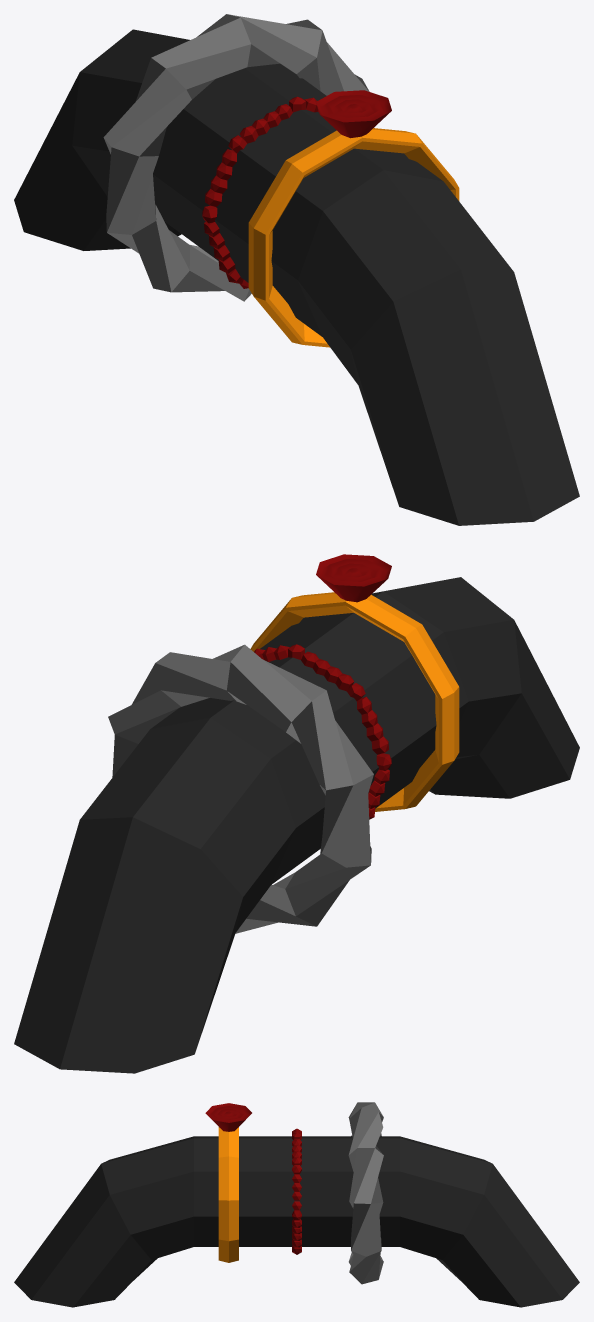
The model's file is Wristbands 1.FBX.
3 renders of one model, top to bottom at view 1: azimuth 30°, elevation 25°; view 2: azimuth 150°, elevation 25°; view 3: azimuth 270°, elevation 25°, orthographic. The views are drawn at different scales.
Parts seen in each view (by area): view 1: Object001, Cone001; view 2: Object001, Cone001; view 3: Object001, Cone001.
Boxes of the visible parts, left/top/right/bottom form: Object001: left=14, top=29, right=579, bottom=525; Cone001: left=103, top=14, right=459, bottom=347; Object001: left=14, top=577, right=579, bottom=1073; Cone001: left=108, top=554, right=459, bottom=933; Object001: left=14, top=1136, right=579, bottom=1307; Cone001: left=205, top=1102, right=383, bottom=1284.
Bounding box in the file's own units: 0.3043 × 0.3272 × 0.9611.
